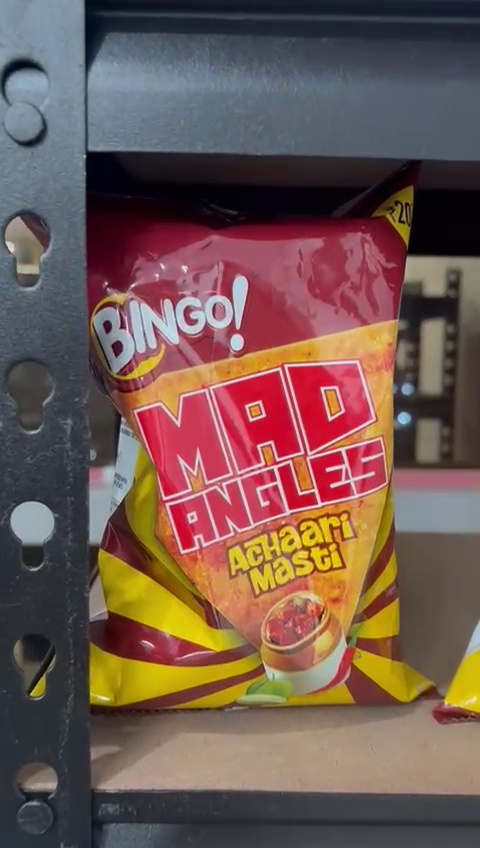Bingo Mad Angles: (88, 202, 412, 710)
